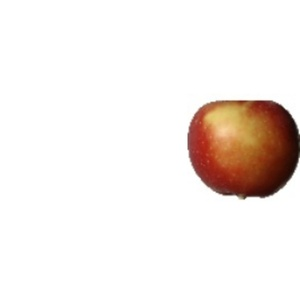maçã braeburn: (186, 99, 300, 196)
